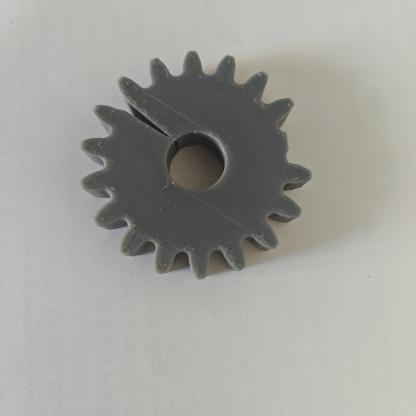defect: (81, 66, 197, 164), (255, 90, 332, 194)
gear: (62, 37, 342, 306)
